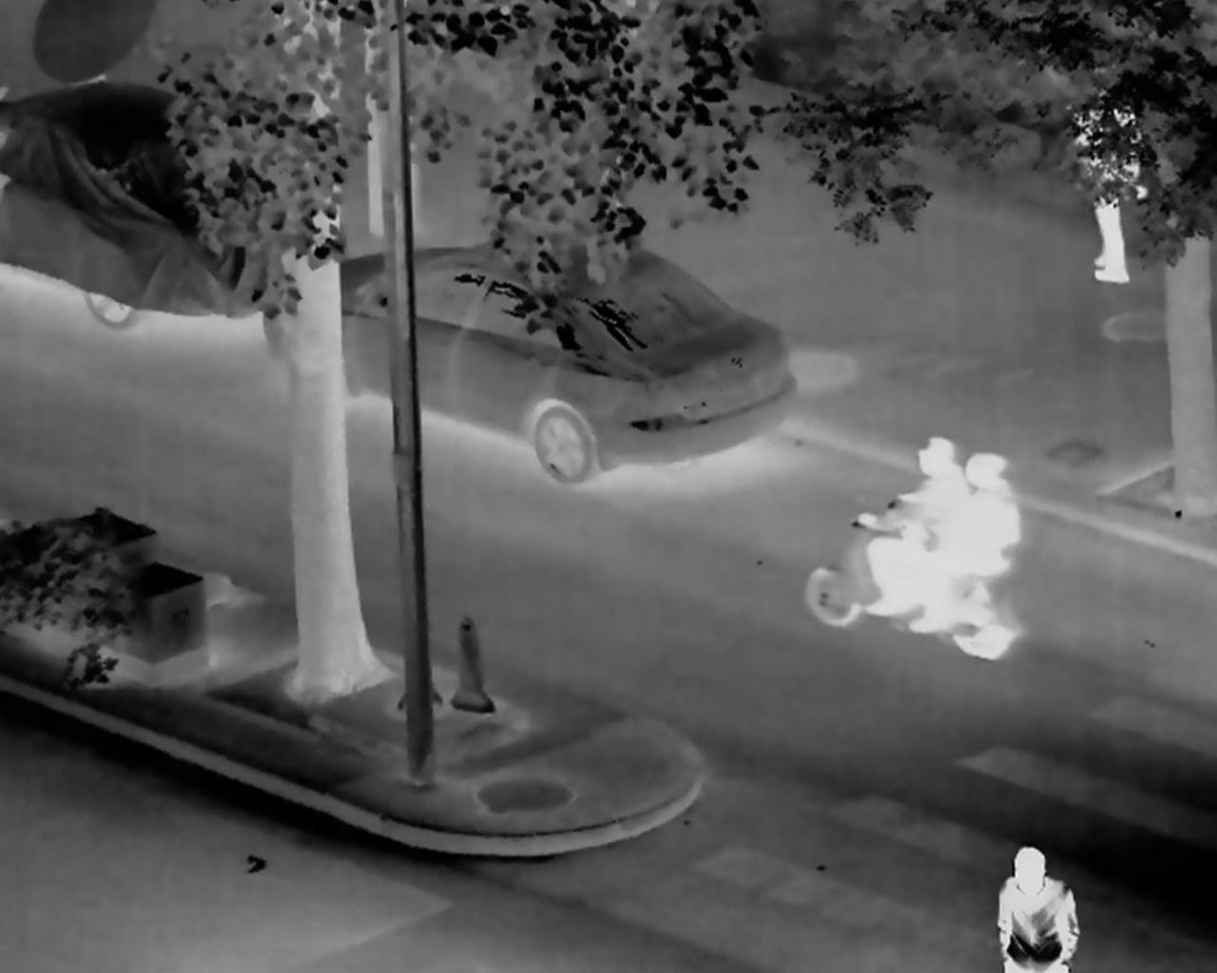person: (864, 433, 969, 618), (912, 452, 1019, 633), (1067, 83, 1154, 298), (995, 847, 1080, 972)
